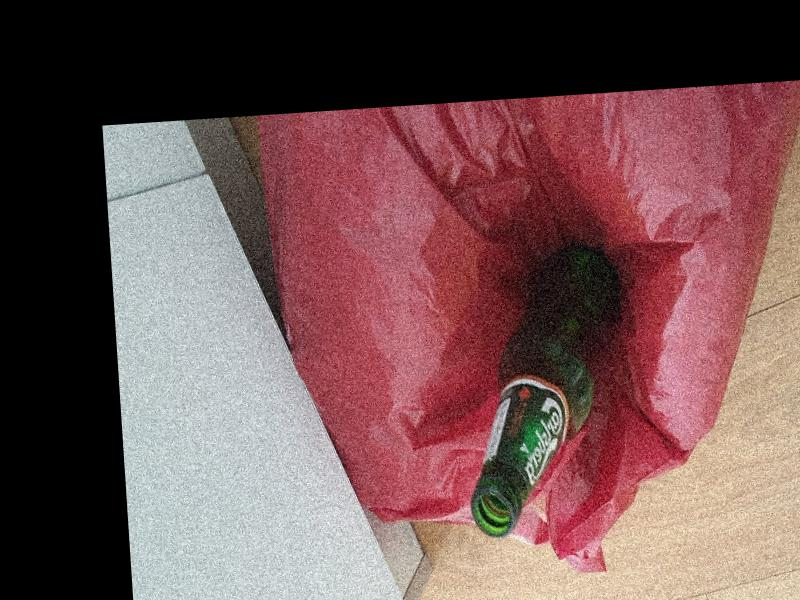Beer: (456, 246, 637, 540)
